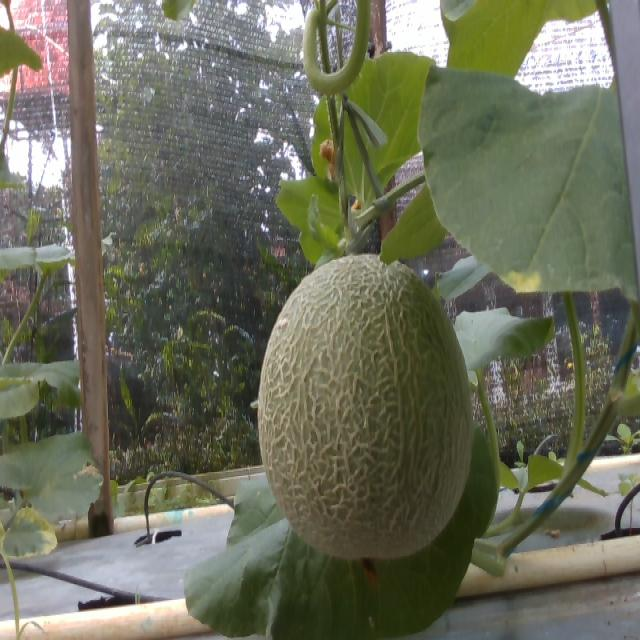melon: (259, 255, 474, 559)
